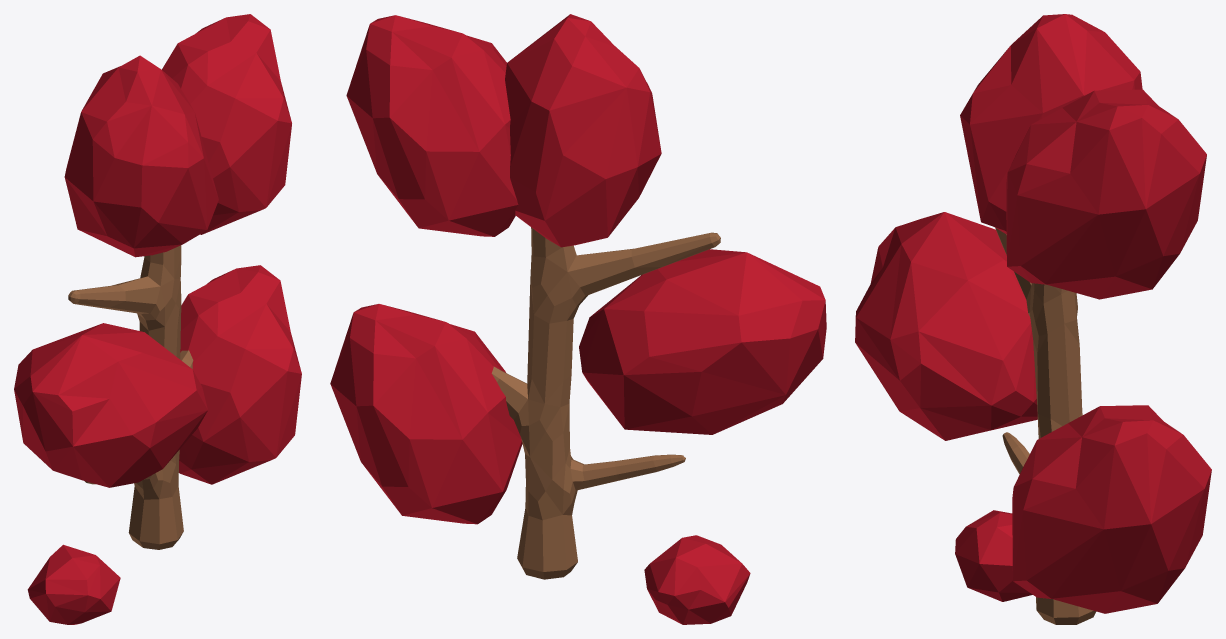
The model's file is tree-dead-complete-11-003.glb.
3 renders of one model, left to right at view 1: azimuth 30°, elevation 25°; view 2: azimuth 150°, elevation 25°; view 3: azimuth 270°, elevation 25°, orthographic. The views are drawn at different scales.
Parts seen in each view (by area): view 1: TREE 11.007_499, TREE 11.006_500; view 2: TREE 11.007_499, TREE 11.006_500; view 3: TREE 11.007_499, TREE 11.006_500.
Boxes of the visible parts, bbox=[...] form: TREE 11.007_499: bbox=[14, 14, 301, 624]; TREE 11.006_500: bbox=[68, 245, 193, 549]; TREE 11.007_499: bbox=[330, 14, 826, 624]; TREE 11.006_500: bbox=[491, 227, 720, 579]; TREE 11.007_499: bbox=[855, 14, 1211, 613]; TREE 11.006_500: bbox=[995, 228, 1096, 624].
Bounding box in the file's own units: 1.25 × 1.85 × 0.9391.
